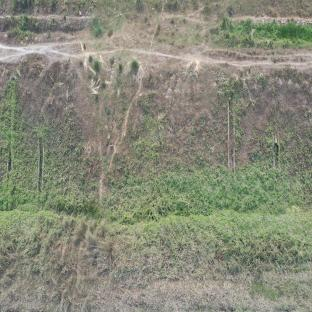slope_drain: (2, 77, 15, 185), (228, 100, 237, 176), (35, 137, 44, 196), (272, 142, 283, 187)
